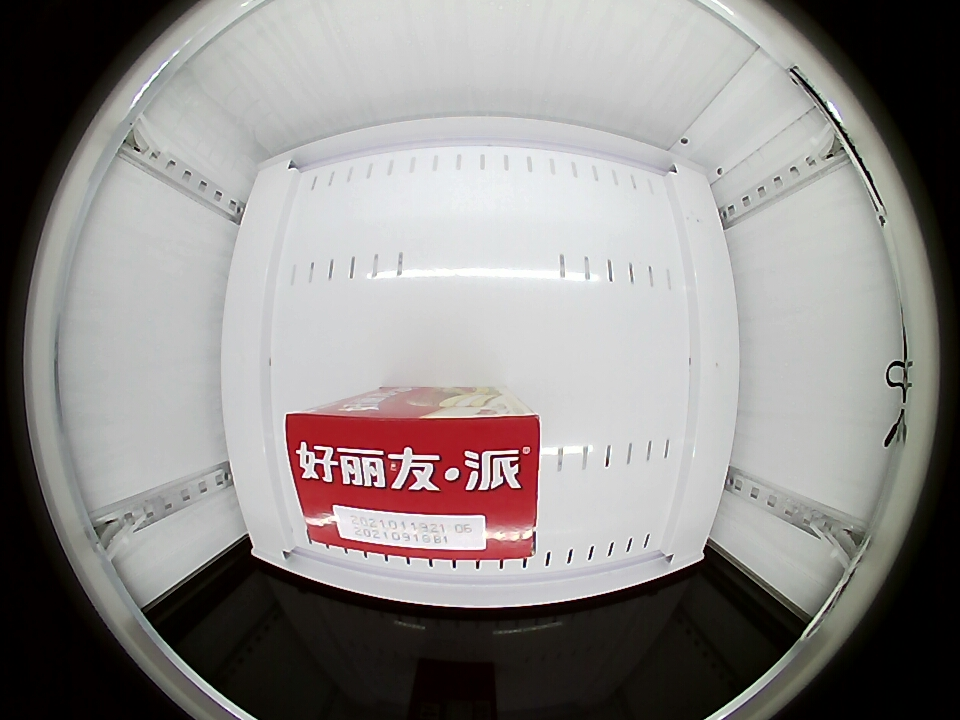haoliyou: (285, 393, 540, 563)
